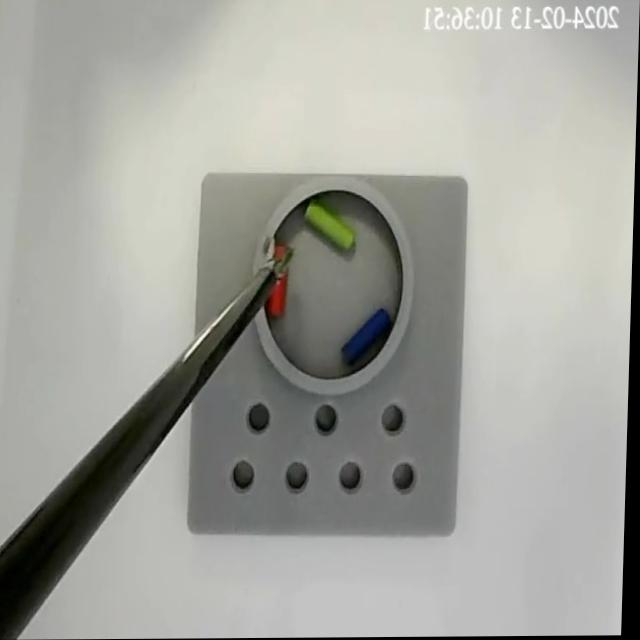EmptyHole: (394, 458, 423, 500), (339, 457, 369, 497), (248, 399, 275, 437), (286, 458, 313, 496), (232, 457, 259, 494), (382, 402, 409, 437), (317, 402, 342, 436)
